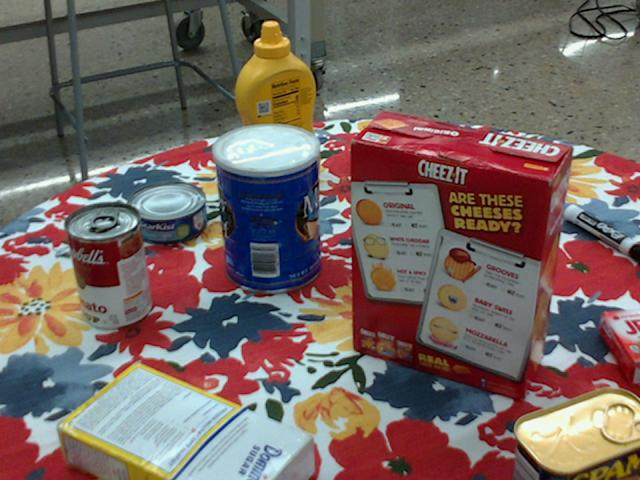cracker_box: (349, 112, 572, 404)
gelatin_box: (597, 309, 639, 384)
large_marker: (564, 204, 639, 262)
master_chef_can: (213, 122, 321, 294)
mug: (398, 137, 477, 220)
mustard_bottle: (236, 23, 320, 192)
potted_meat_can: (512, 386, 639, 479)
sugar_box: (55, 363, 313, 479)
tomato_soup_can: (65, 201, 150, 329)
tuna_fish_can: (129, 181, 208, 243)
